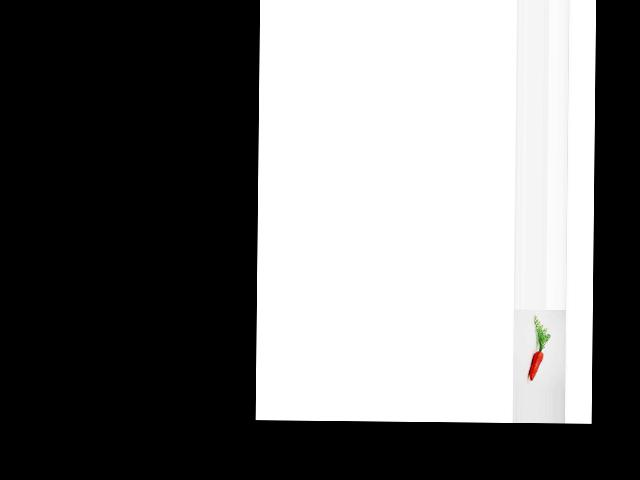carrot: (523, 349, 544, 382)
